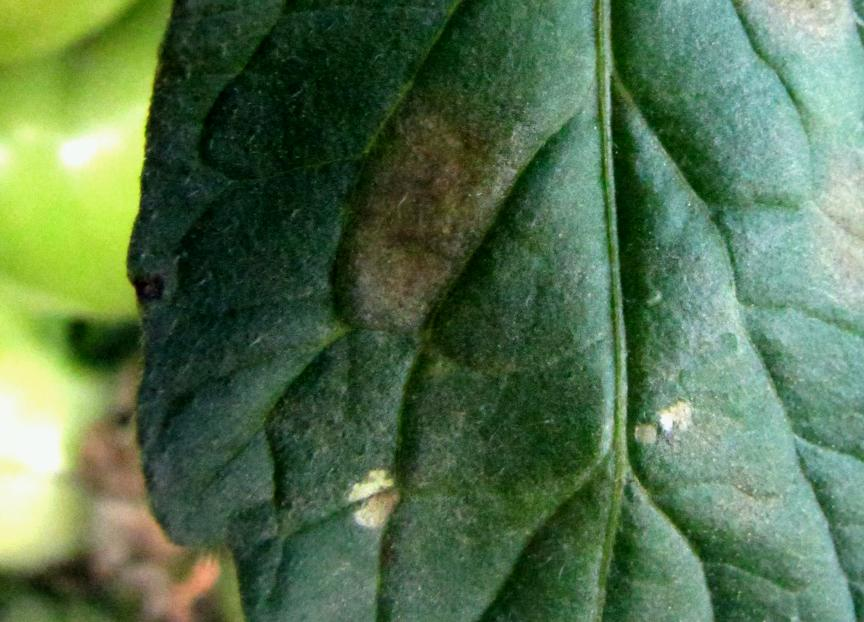Tomato mold leaf: (105, 0, 864, 622)
